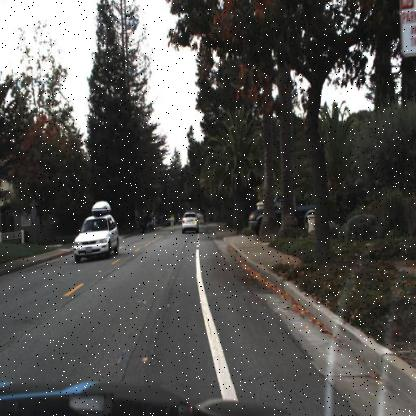car: (71, 198, 120, 263), (247, 192, 314, 237), (178, 209, 200, 233), (139, 210, 157, 234)
